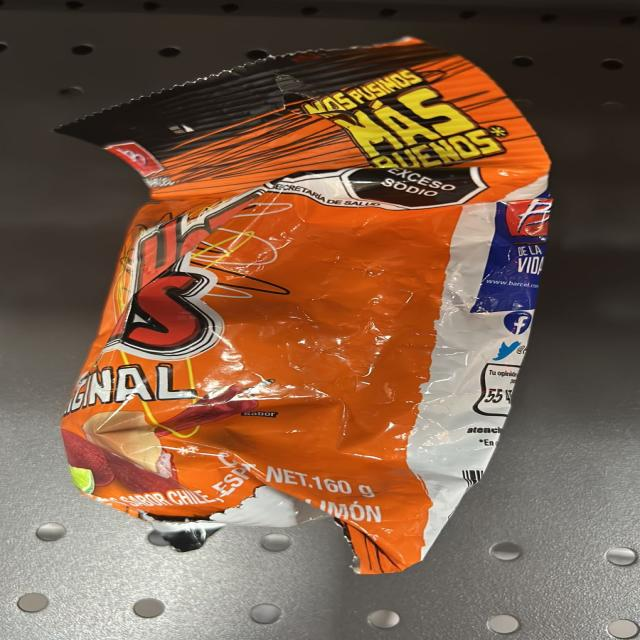hotNutsOriginal: (119, 108, 503, 504)
